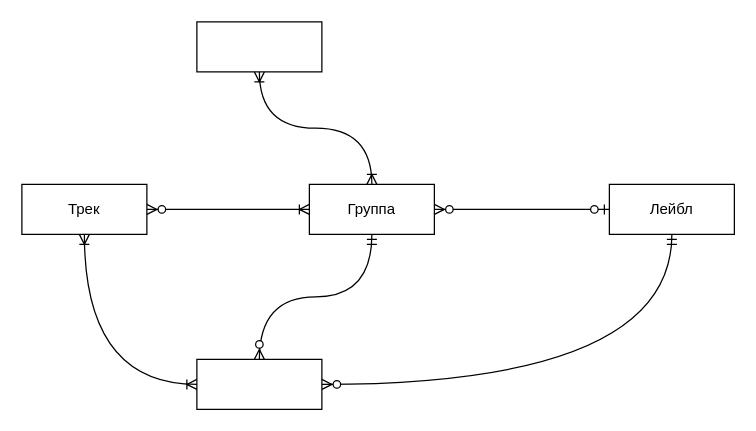
Some shapes in this 756 by 431 pixel diagram are drawn without their labels. Each missing label, with the centre of its shape:
"Альбом" belongs at [259,383].
"Исполнитель" belongs at [259,46].
